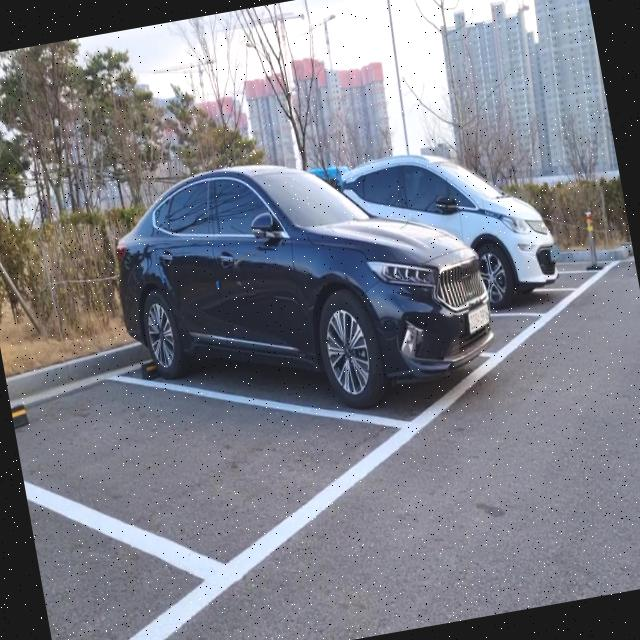empty: (5, 308, 438, 625)
occupied: (106, 136, 510, 477), (457, 170, 572, 319)
